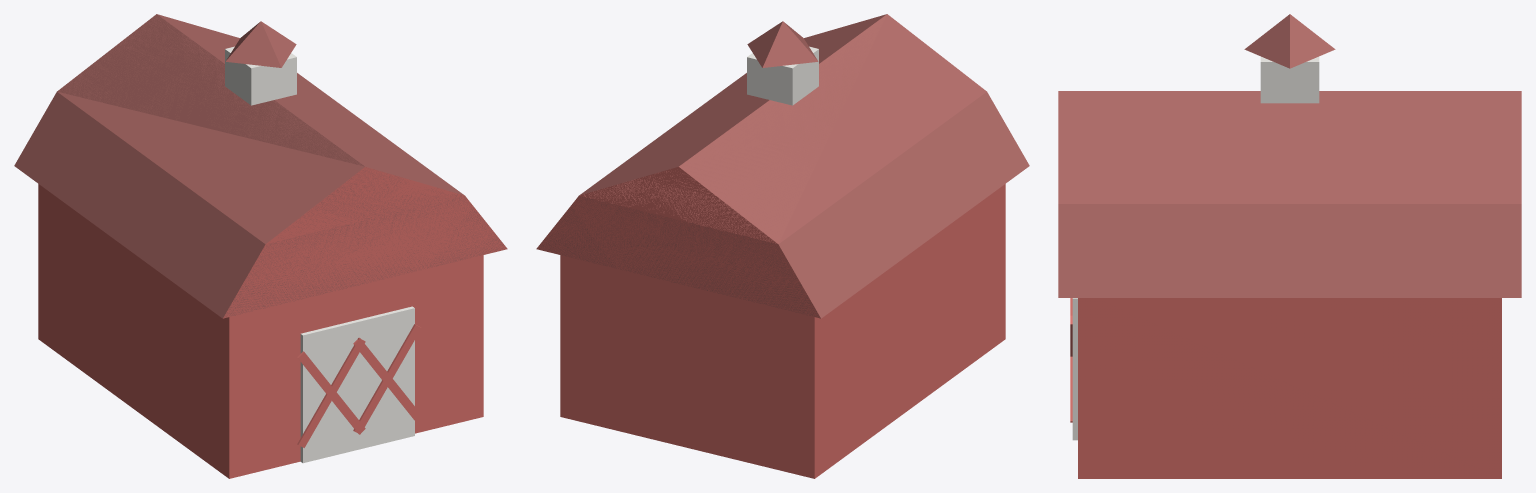
Rendered from granero.glb.
3 renders of one model, left to right at view 1: azimuth 30°, elevation 25°; view 2: azimuth 150°, elevation 25°; view 3: azimuth 270°, elevation 25°, orthographic. The views are drawn at different scales.
Parts seen in each view (by area): view 1: Granero_Rojo; view 2: Granero_Rojo; view 3: Granero_Rojo.
Part boxes in pixels (<box>): Granero_Rojo: <box>14,14,507,478</box>; Granero_Rojo: <box>536,14,1029,478</box>; Granero_Rojo: <box>1058,14,1521,478</box>.
Size of the model in its own units: 5.6 by 6.7 by 7.1.
